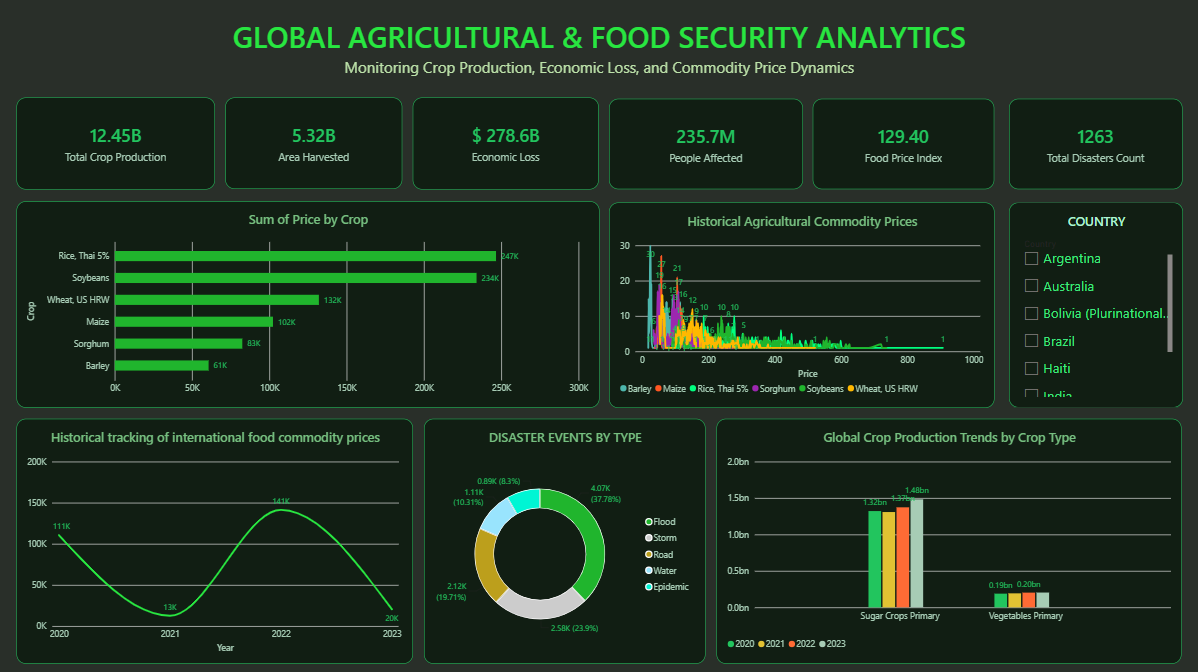

This screenshot's page, from the dashboard's own definition file:
{"tool":"powerbi","page":{"name":"AGRI","canvas":[1920,1080],"ordinal":3},"visuals":[{"type":"card","fields":{"Values":["EM-DAT Data.Total Crop Production"]},"box":[27.5,155,317.5,147.5],"z":0},{"type":"card","fields":{"Values":["EM-DAT Data.Area Harvested"]},"box":[362.5,155,283.3,146.7],"z":1000},{"type":"card","fields":{"Values":["EM-DAT Data.Economic Loss"]},"box":[662.5,155,297.5,147.5],"z":2000},{"type":"card","fields":{"Values":["EM-DAT Data.People Affected"]},"box":[975,157.5,310,145],"z":3000},{"type":"card","fields":{"Values":["EM-DAT Data.Food Price Index"]},"box":[1302.5,157.5,290,145],"z":4000},{"type":"card","fields":{"Values":["EM-DAT Data.Total Disasters Count"]},"box":[1615,157.5,277.5,145],"z":5000},{"type":"clusteredColumnChart","title":"Global Crop Production Trends by Crop Type","fields":{"Category":["FAOSTAT_data_en_7-23-2026.Item"],"Series":["FAOSTAT_data_en_7-23-2026.Year"],"Y":["Sum(FAOSTAT_data_en_7-23-2026.Value)"]},"box":[1147.5,670,745,410],"z":6000},{"type":"donutChart","title":"DISASTER EVENTS BY TYPE","fields":{"Category":["public_emdat_project.Disaster Type"],"Y":["CountNonNull(public_emdat_project.Disaster Group)"]},"box":[680,670,450,410],"z":7000},{"type":"lineChart","title":"Historical tracking of international food commodity prices","fields":{"Category":["FAOSTAT_data_en_7-23-2026 (1).Year"],"Y":["Sum(FAOSTAT_data_en_7-23-2026 (1).Value)"]},"box":[27.5,670,635,410],"z":8000},{"type":"lineChart","title":"Historical Agricultural Commodity Prices","fields":{"Category":["Table 1 (Monthly Prices).Price"],"Series":["Table 1 (Monthly Prices).Crop"],"Y":["CountNonNull(Table 1 (Monthly Prices).Date)"]},"box":[975.8,323.7,616.6,328.4],"z":9000},{"type":"clusteredBarChart","fields":{"Category":["Table 1 (Monthly Prices).Crop"],"Y":["Sum(Table 1 (Monthly Prices).Price)"]},"box":[27.5,322.5,932.5,330],"z":10000},{"type":"textbox","title":"GLOBAL AGRICULTURAL & FOOD SECURITY ANALYTICS","box":[27.5,25,1865,132.5],"z":11000},{"type":"slicer","title":"COUNTRY","fields":{"Values":["EM-DAT Data.Country"]},"box":[1615,324,278,328],"z":12000}]}

Visuals, with their boxes in screenshot pixels (x1, y1, x2, y2), scaled from the page's 1920x1080 canvas onto the 1198x672 screenshot:
card - EM-DAT Data.Total Crop Production: [x1=17, y1=96, x2=215, y2=188]
card - EM-DAT Data.Area Harvested: [x1=226, y1=96, x2=403, y2=188]
card - EM-DAT Data.Economic Loss: [x1=413, y1=96, x2=599, y2=188]
card - EM-DAT Data.People Affected: [x1=608, y1=98, x2=802, y2=188]
card - EM-DAT Data.Food Price Index: [x1=813, y1=98, x2=994, y2=188]
card - EM-DAT Data.Total Disasters Count: [x1=1008, y1=98, x2=1181, y2=188]
"Global Crop Production Trends by Crop Type" clusteredColumnChart: [x1=716, y1=417, x2=1181, y2=671]
"DISASTER EVENTS BY TYPE" donutChart: [x1=424, y1=417, x2=705, y2=671]
"Historical tracking of international food commodity prices" lineChart: [x1=17, y1=417, x2=413, y2=671]
"Historical Agricultural Commodity Prices" lineChart: [x1=609, y1=201, x2=994, y2=406]
clusteredBarChart - Table 1 (Monthly Prices).Crop x Sum(Table 1 (Monthly Prices).Price): [x1=17, y1=201, x2=599, y2=406]
"GLOBAL AGRICULTURAL & FOOD SECURITY ANALYTICS" textbox: [x1=17, y1=16, x2=1181, y2=98]
"COUNTRY" slicer: [x1=1008, y1=202, x2=1181, y2=406]
